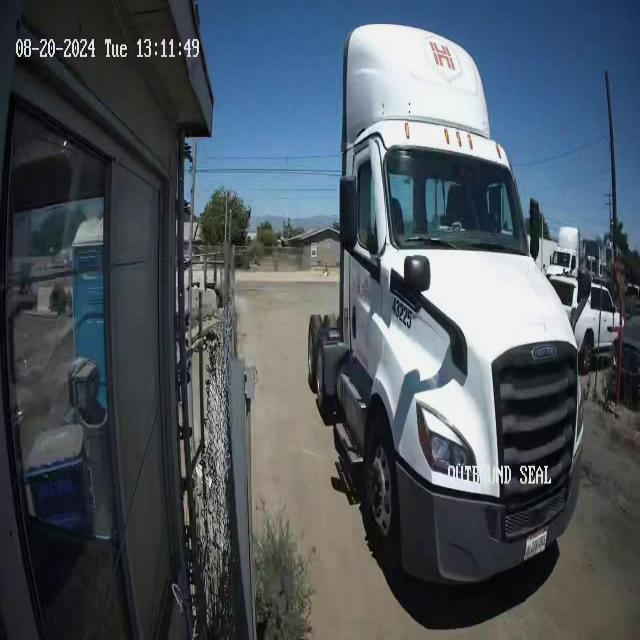BOBTAIL: (306, 21, 586, 588)
